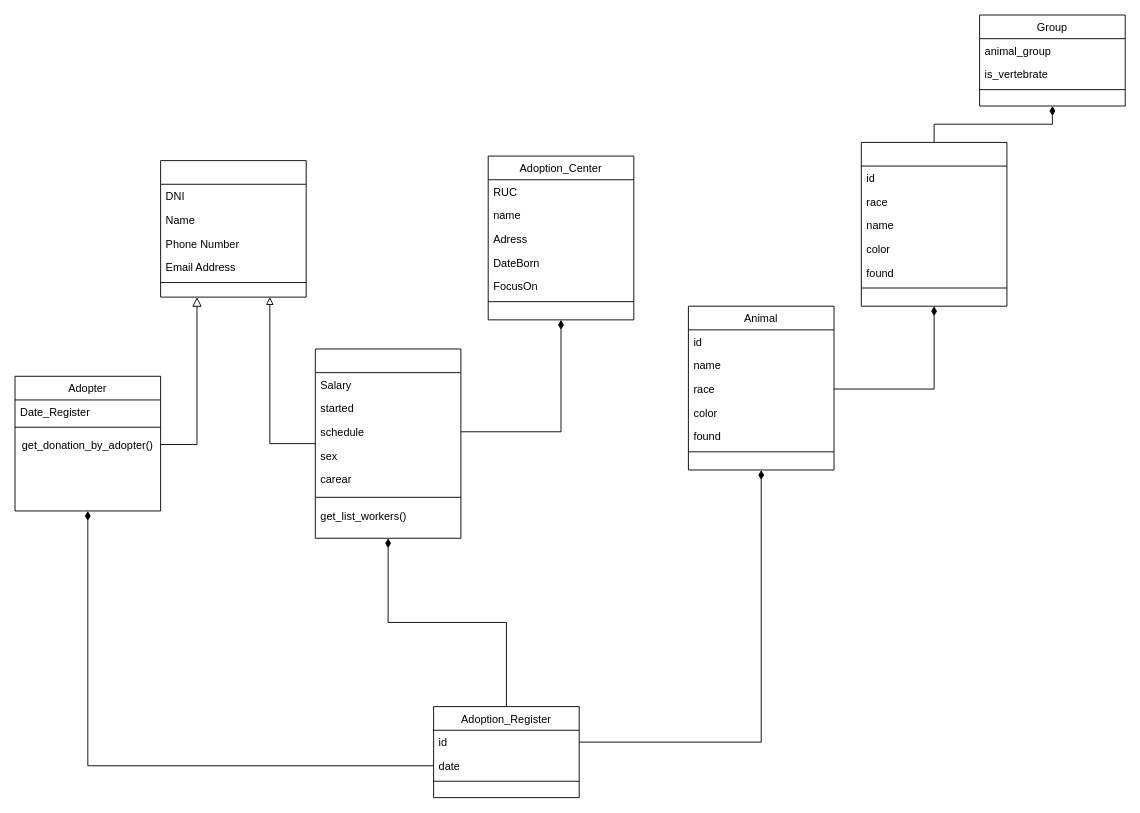
The diagram is 1140 pixels wide and 813 high, and some of its shapes have lost their labels. Each missing label, with the box of its shape:
Carer: (314, 348, 461, 538)
Person: (160, 160, 306, 297)
Species: (860, 142, 1007, 306)
